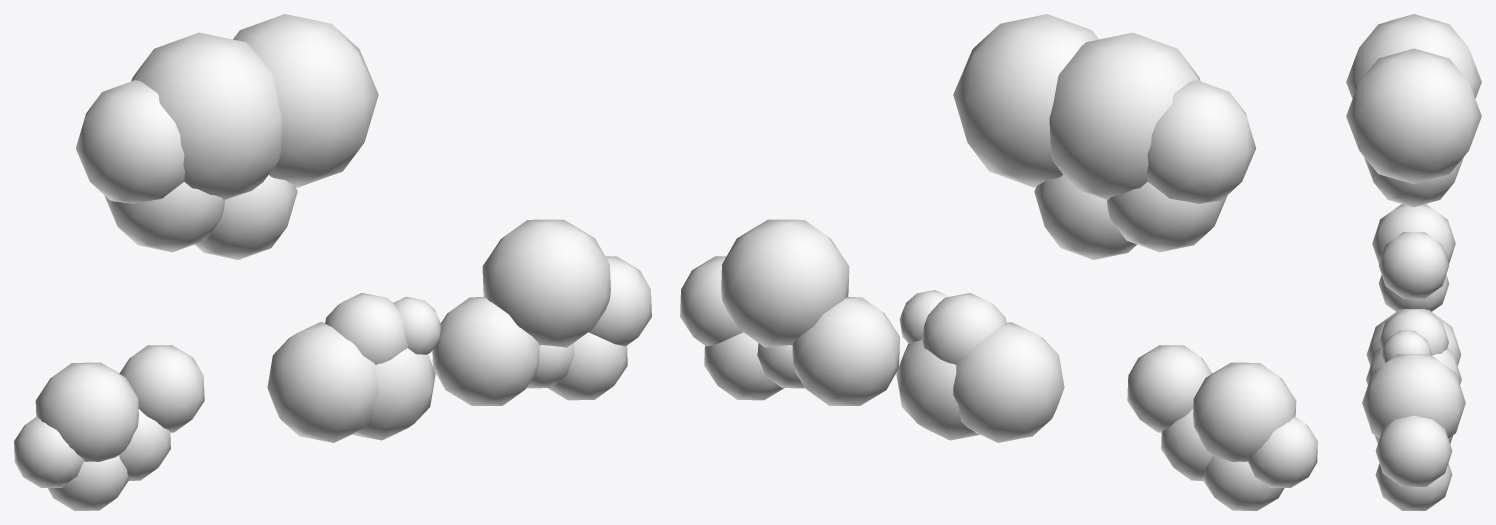
File: Cloud.fbx
The picture shows the model from 3 angles, left to right: view 1: azimuth 30°, elevation 25°; view 2: azimuth 150°, elevation 25°; view 3: azimuth 270°, elevation 25°; orthographic projection. The views are drawn at different scales.
Parts seen in each view (by area): view 1: Icosphere.017, Icosphere.003, Icosphere.011, Icosphere.002; view 2: Icosphere.017, Icosphere.003, Icosphere.011, Icosphere.002; view 3: Icosphere.017, Icosphere.003, Icosphere.011, Icosphere.002.
Boxes of the visible parts, x1=… form: Icosphere.017: x1=75, y1=14, x2=378, y2=259; Icosphere.003: x1=432, y1=219, x2=651, y2=405; Icosphere.011: x1=14, y1=345, x2=204, y2=510; Icosphere.002: x1=267, y1=293, x2=441, y2=442; Icosphere.017: x1=953, y1=14, x2=1256, y2=259; Icosphere.003: x1=680, y1=219, x2=899, y2=405; Icosphere.011: x1=1127, y1=345, x2=1317, y2=510; Icosphere.002: x1=896, y1=290, x2=1064, y2=442; Icosphere.017: x1=1346, y1=14, x2=1481, y2=207; Icosphere.003: x1=1362, y1=354, x2=1465, y2=510; Icosphere.011: x1=1372, y1=204, x2=1455, y2=311; Icosphere.002: x1=1366, y1=309, x2=1461, y2=384.
Size of the model in its own units: 1188 by 802 by 287.
